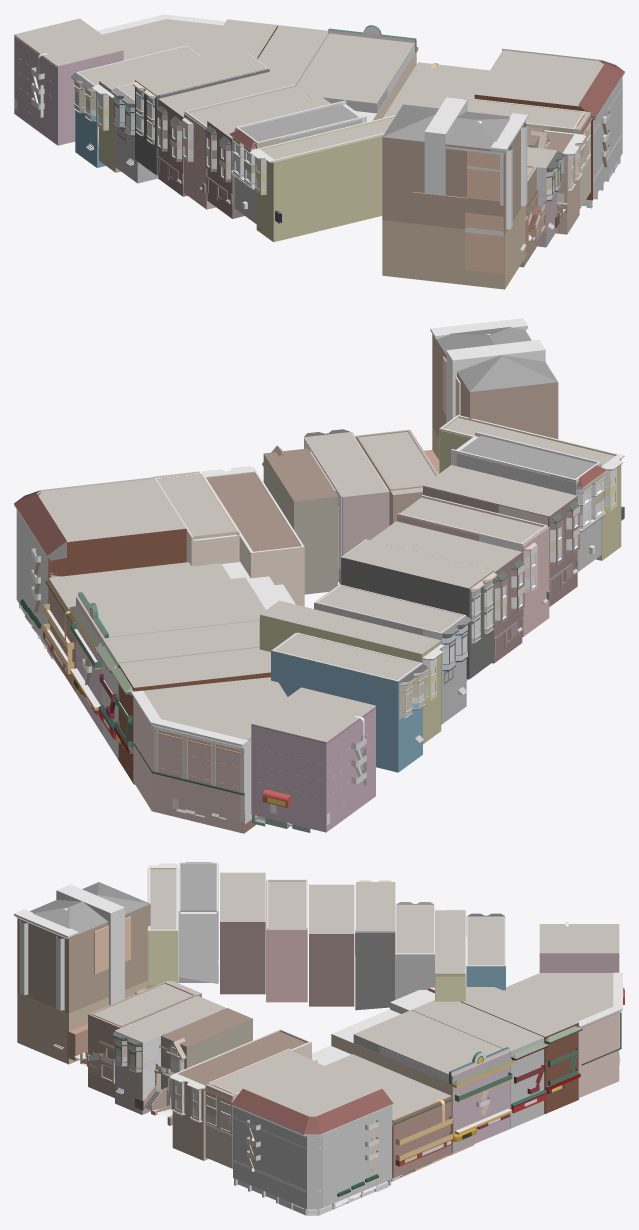
Rendered from city_west13.dae.
3 renders of one model, top to bottom at view 1: azimuth 30°, elevation 25°; view 2: azimuth 150°, elevation 25°; view 3: azimuth 270°, elevation 25°, orthographic. The views are drawn at different scales.
Parts seen in each view (by area): view 1: city_west13_a2000, city_west13_a3000; view 2: city_west13_a2000, city_west13_a3000; view 3: city_west13_a2000, city_west13_a3000.
Part boxes in pixels (x1=…): city_west13_a2000: x1=14, y1=18, x2=622, y2=289; city_west13_a3000: x1=14, y1=14, x2=624, y2=273; city_west13_a2000: x1=16, y1=327, x2=621, y2=833; city_west13_a3000: x1=14, y1=318, x2=624, y2=832; city_west13_a2000: x1=17, y1=864, x2=619, y2=1209; city_west13_a3000: x1=14, y1=862, x2=624, y2=1215.
Bounding box in the file's own units: 94.8 × 124 × 42.
